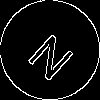N: (25, 25, 83, 83)
